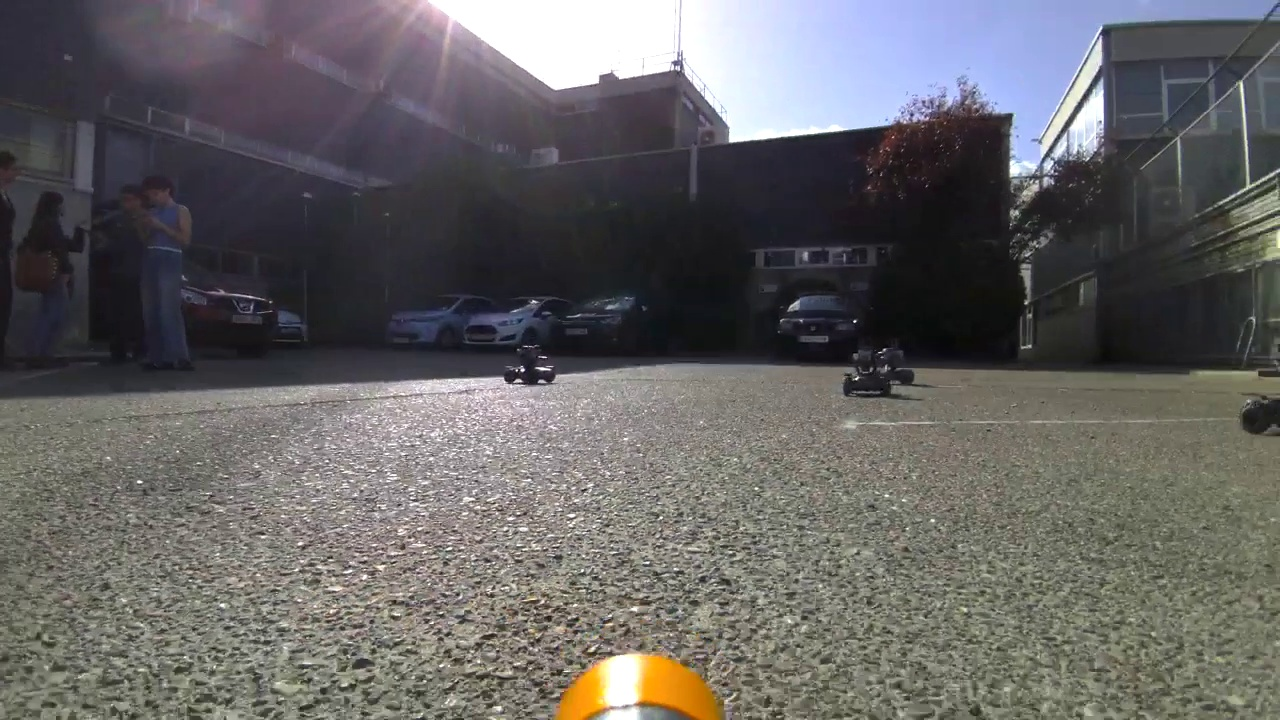robot: (498, 338, 563, 395), (837, 343, 891, 403), (875, 343, 917, 387)
